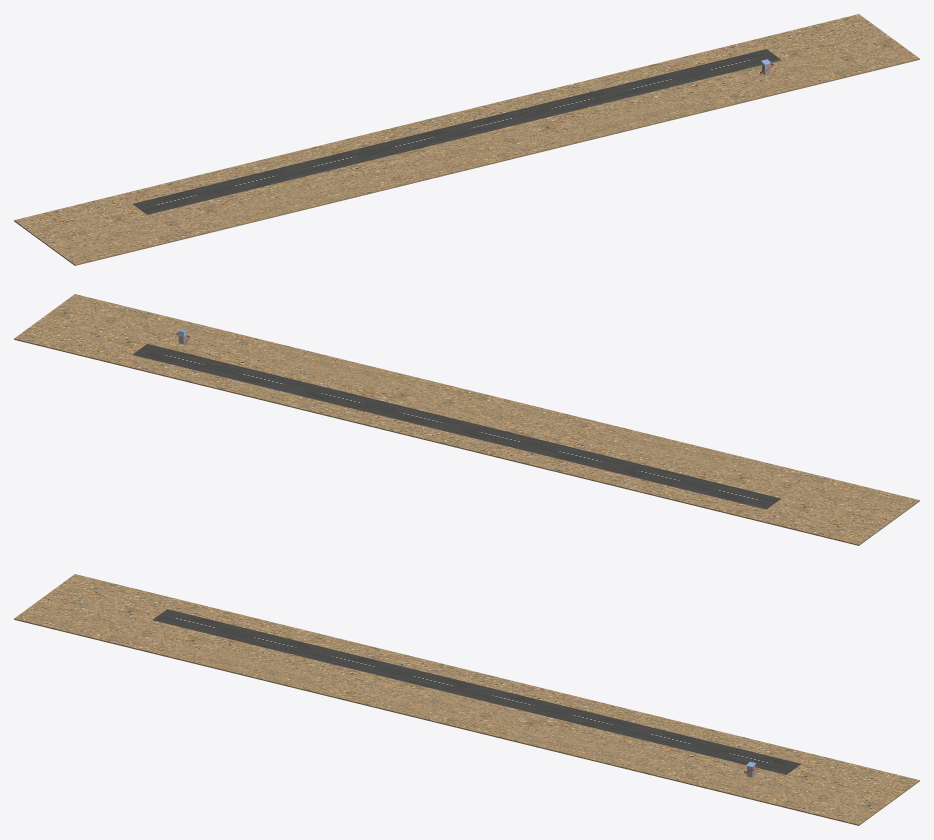
File: airport.fbx
3 renders of one model, top to bottom at view 1: azimuth 30°, elevation 25°; view 2: azimuth 150°, elevation 25°; view 3: azimuth 330°, elevation 25°, orthographic.
Parts seen in each view (by area): view 1: Road; view 2: Road; view 3: Road.
Boxes of the visible parts, x1=… form: Road: x1=14, y1=14, x2=919, y2=265; Road: x1=14, y1=294, x2=919, y2=545; Road: x1=14, y1=574, x2=919, y2=825.
Bounding box in the file's own units: 800 × 12.21 × 100.
